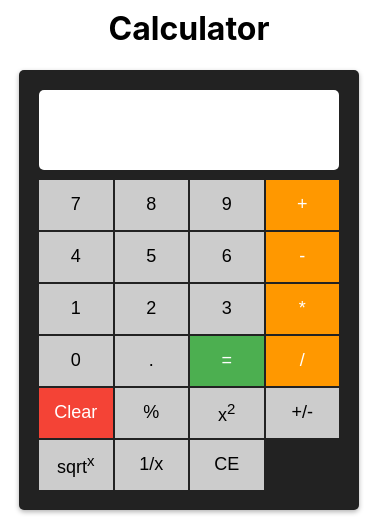
Scenario: test divide by zero › zero divide by zero
This screenshot has width=379, height=532.
# 0/0 should be NaN displayed
Click the button with test id "number0" at (76, 361), box [39,336,112,386]
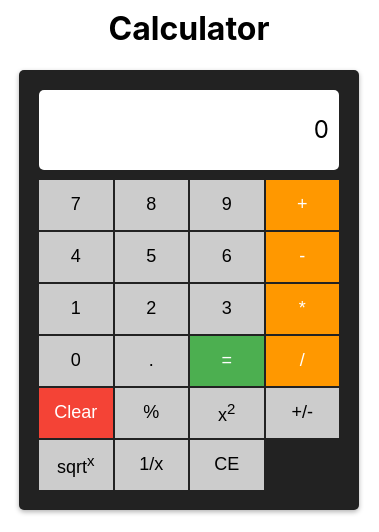
Click the button with test id "divide" at (302, 361), box [266,336,339,386]
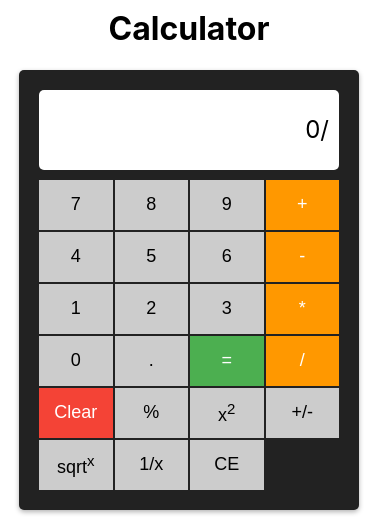
Click the button with test id "number0" at (76, 361), box [39,336,112,386]
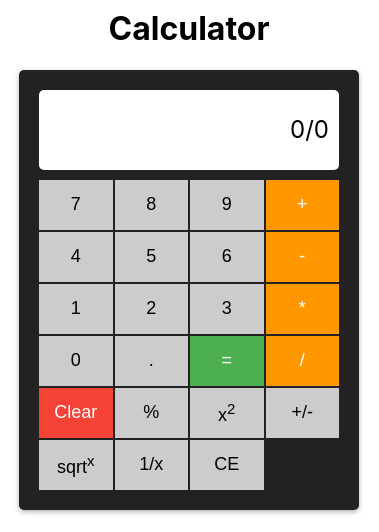
Click the button "=" at (227, 361), box [190,336,264,386]
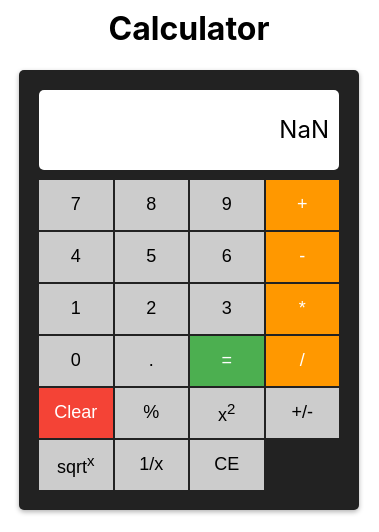
Result: the text with test id "display" reads "NaN" at [279,115,329,144]
